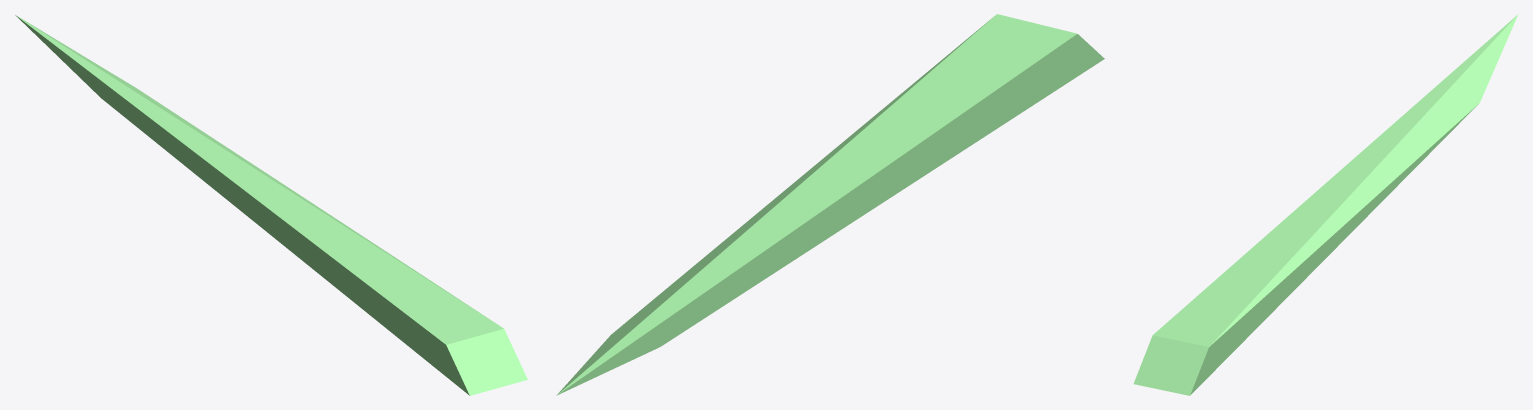
The model's file is dvkr_robot_Lp11_respondable_PSM1_coll_3.dae.
3 renders of one model, left to right at view 1: azimuth 30°, elevation 25°; view 2: azimuth 150°, elevation 25°; view 3: azimuth 330°, elevation 25°, orthographic. The views are drawn at different scales.
Visible parts, largest first — view 1: Node_0000023514CD84E0; view 2: Node_0000023514CD84E0; view 3: Node_0000023514CD84E0.
Boxes of the visible parts, x1,y1,x2,y2 form: Node_0000023514CD84E0: (15, 15, 527, 395); Node_0000023514CD84E0: (556, 14, 1104, 395); Node_0000023514CD84E0: (1133, 14, 1518, 395).
Bounding box in the file's own units: 0.0181 × 0.0149 × 0.1649.
